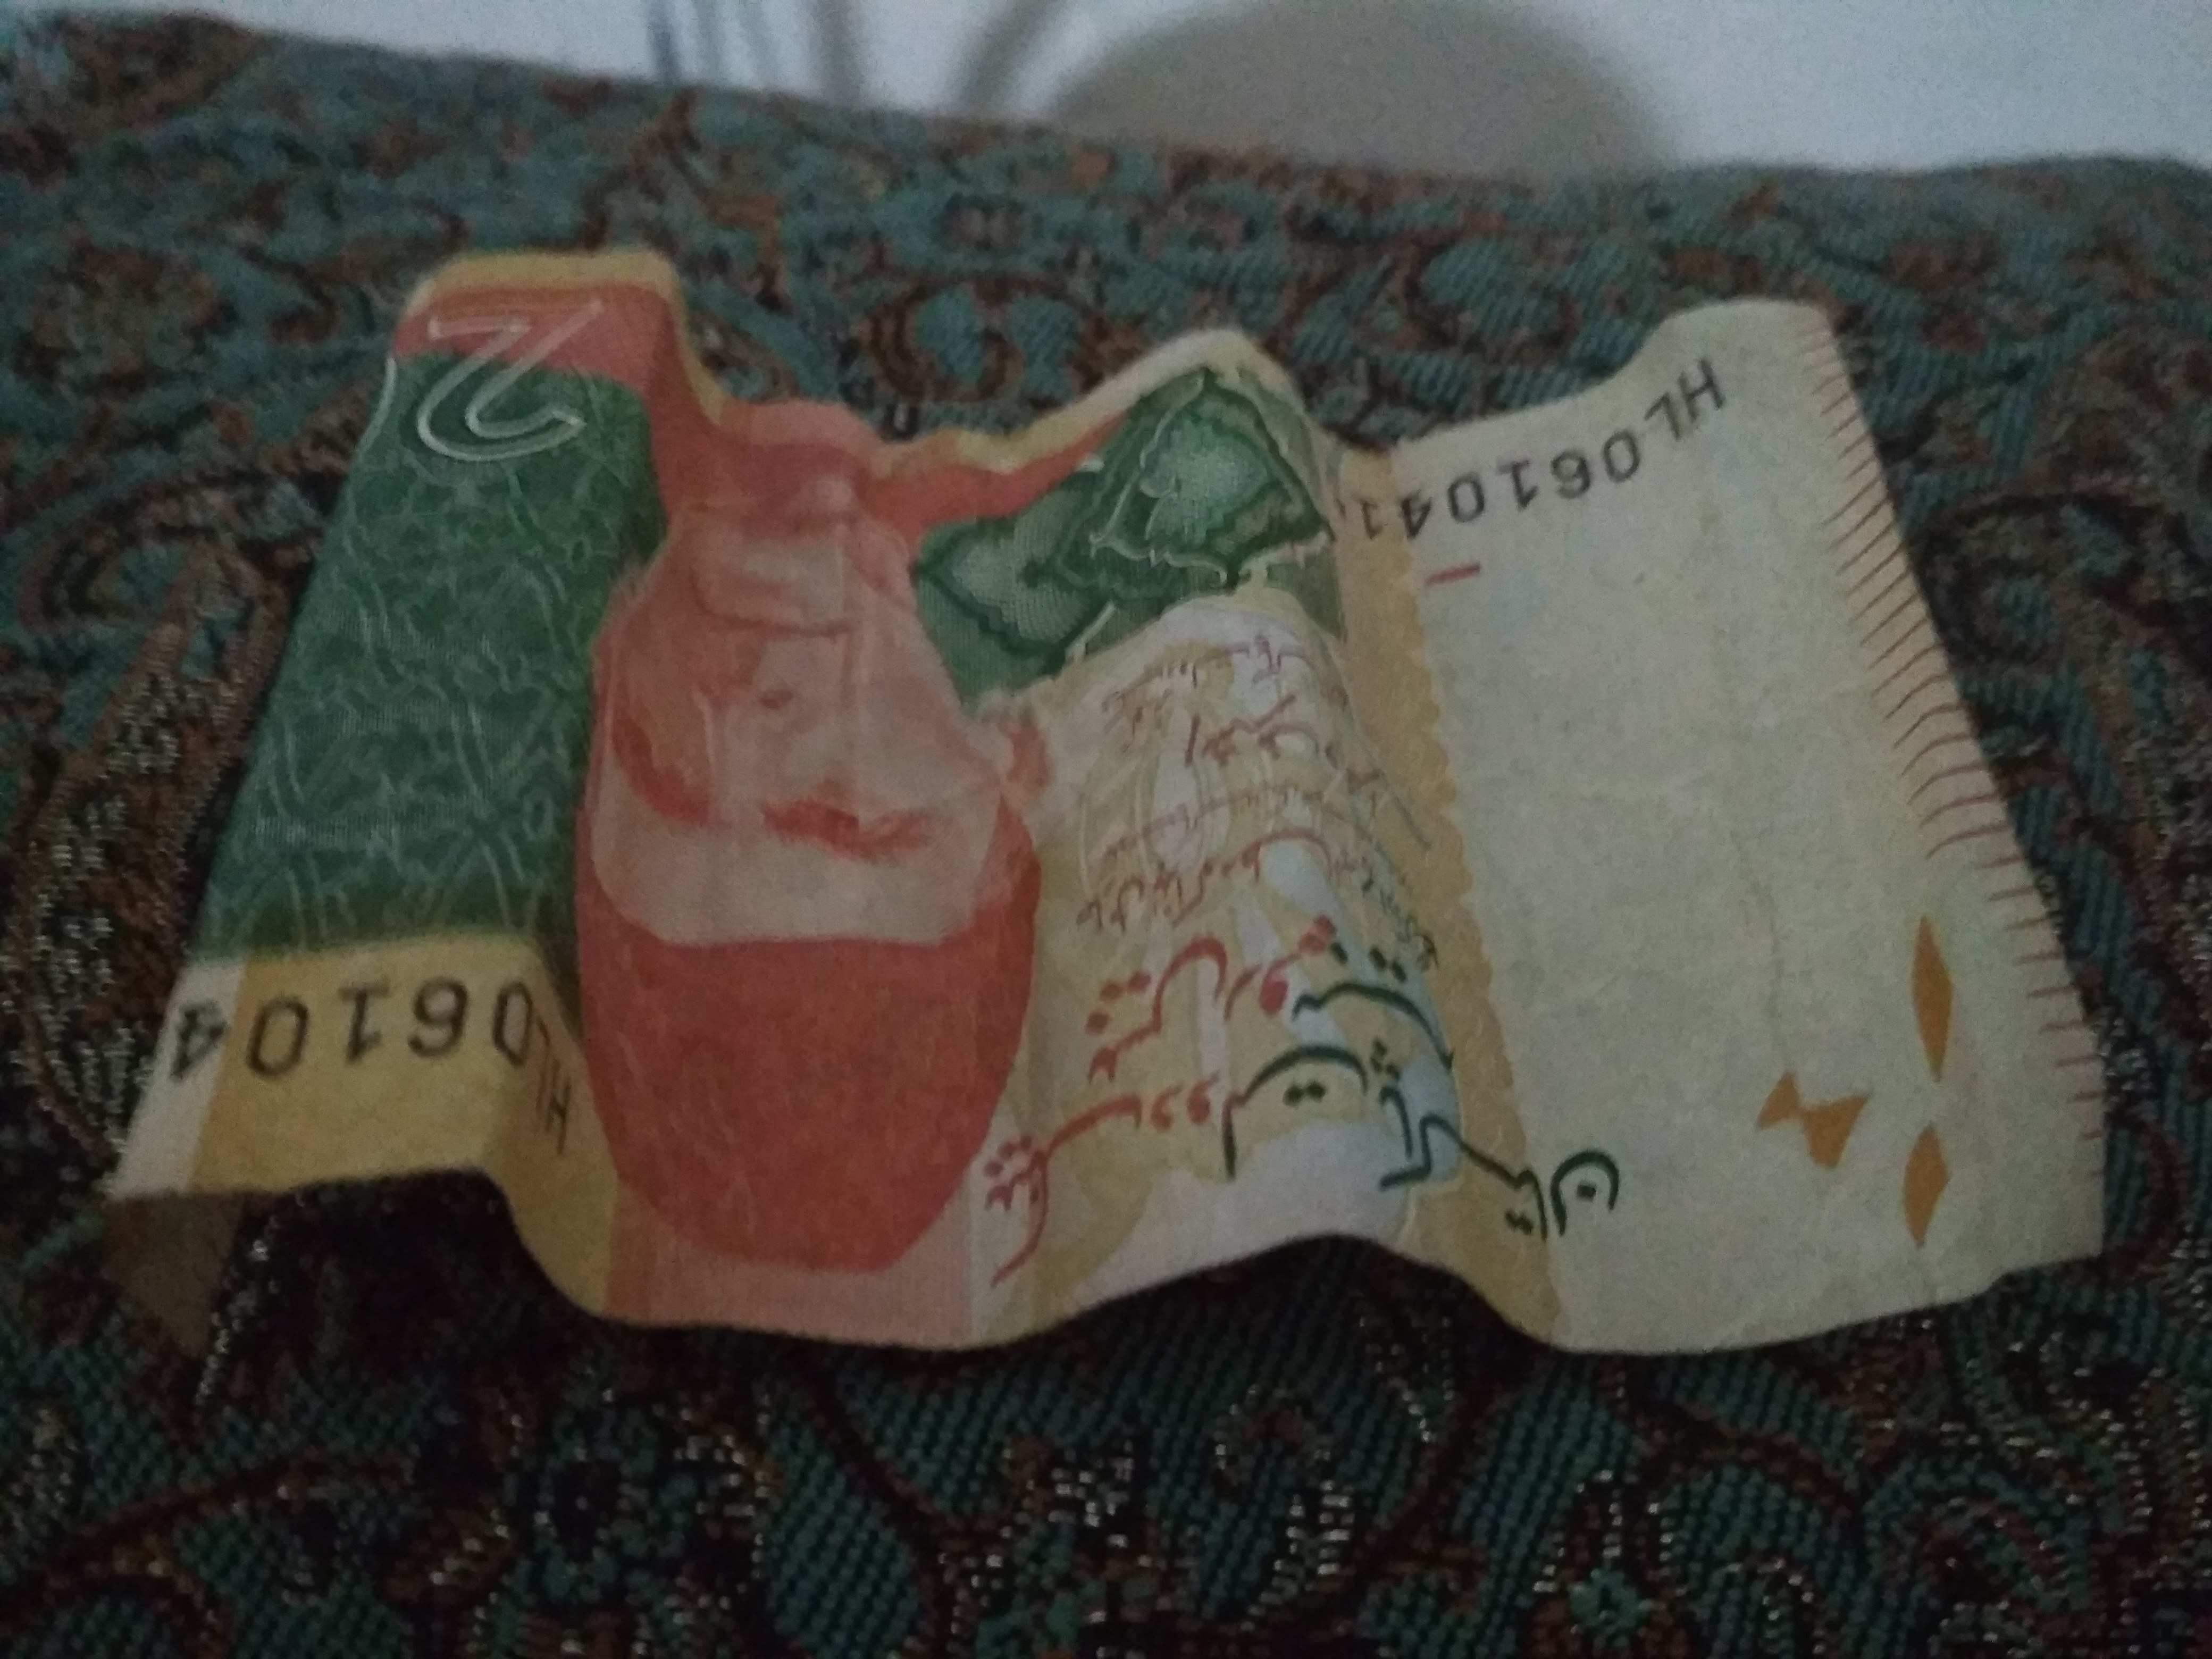20 rupee: (99, 199, 2161, 1469)
